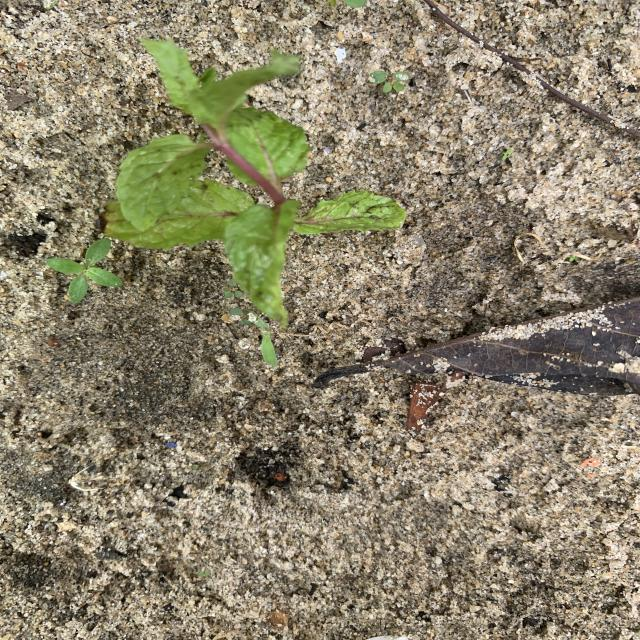crop: (111, 40, 404, 322)
weed: (48, 238, 123, 302), (248, 312, 277, 367), (370, 70, 410, 92), (222, 279, 244, 298), (502, 149, 511, 159)
